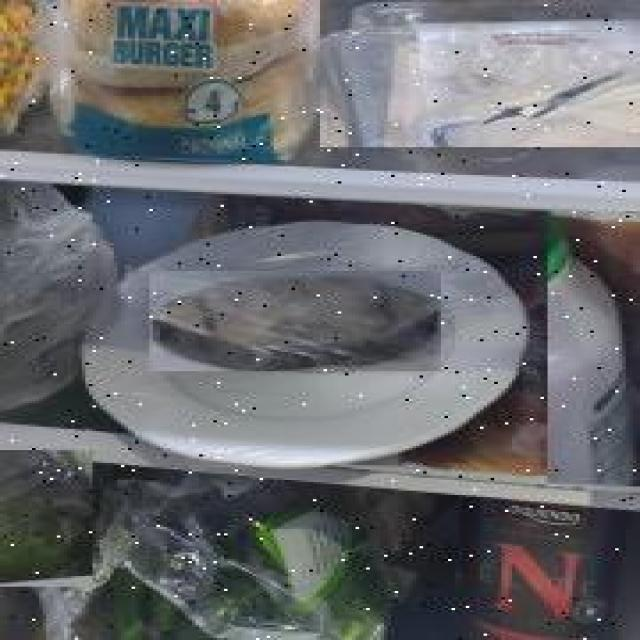cheese: (412, 0, 640, 77)
fish: (149, 271, 441, 371)
milk: (547, 211, 640, 486)
pineapple: (0, 0, 39, 141)
salad: (0, 450, 92, 586)
turkey: (320, 0, 640, 147)
